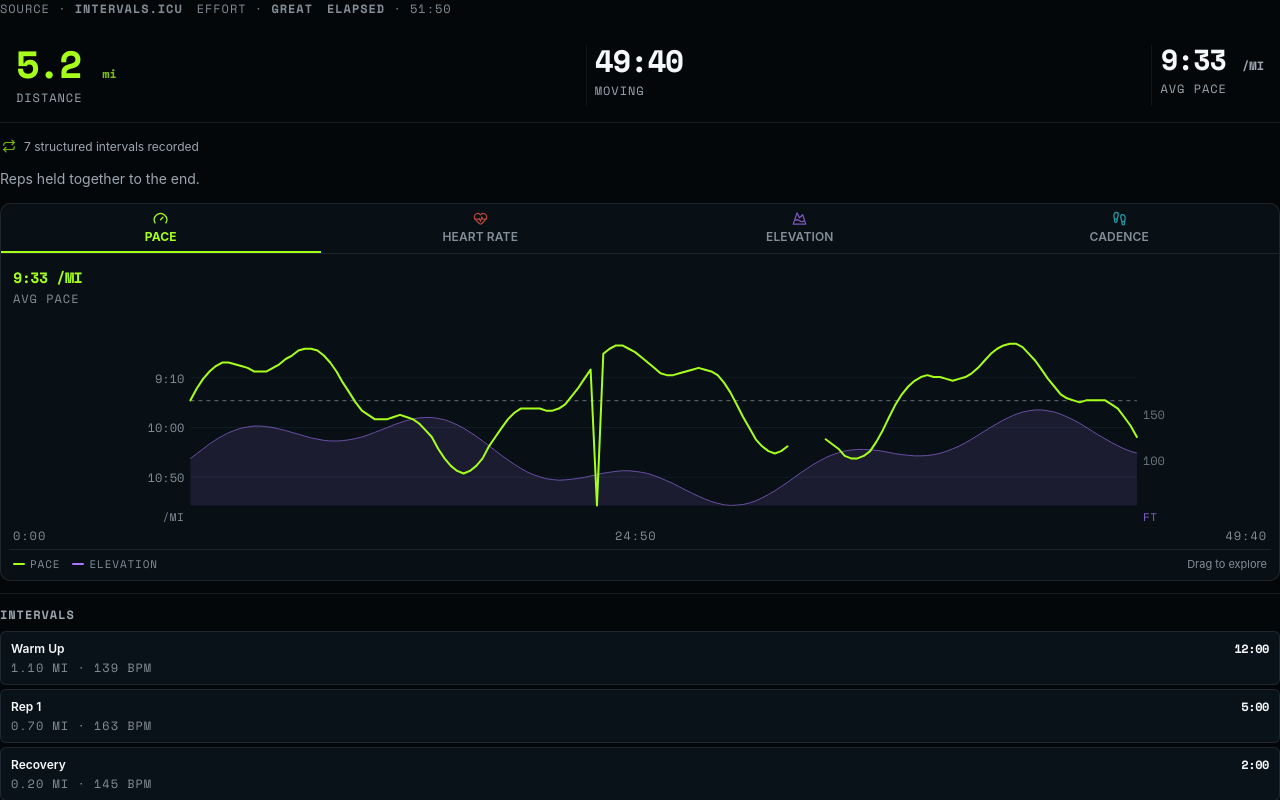
QA rich-profile run › keeps the result dominant and the source's own aggregates stated
This screenshot has width=1280, height=800.
Expected: the element named "Primary activity results" shows "5.2 mi", [0,29,1279,123]
Expected: the text "49:40" is shown 2 times, [595,45,683,77]; [1226,529,1267,543]
Click the button "Elevation": (800, 228) [640,204,960,253]
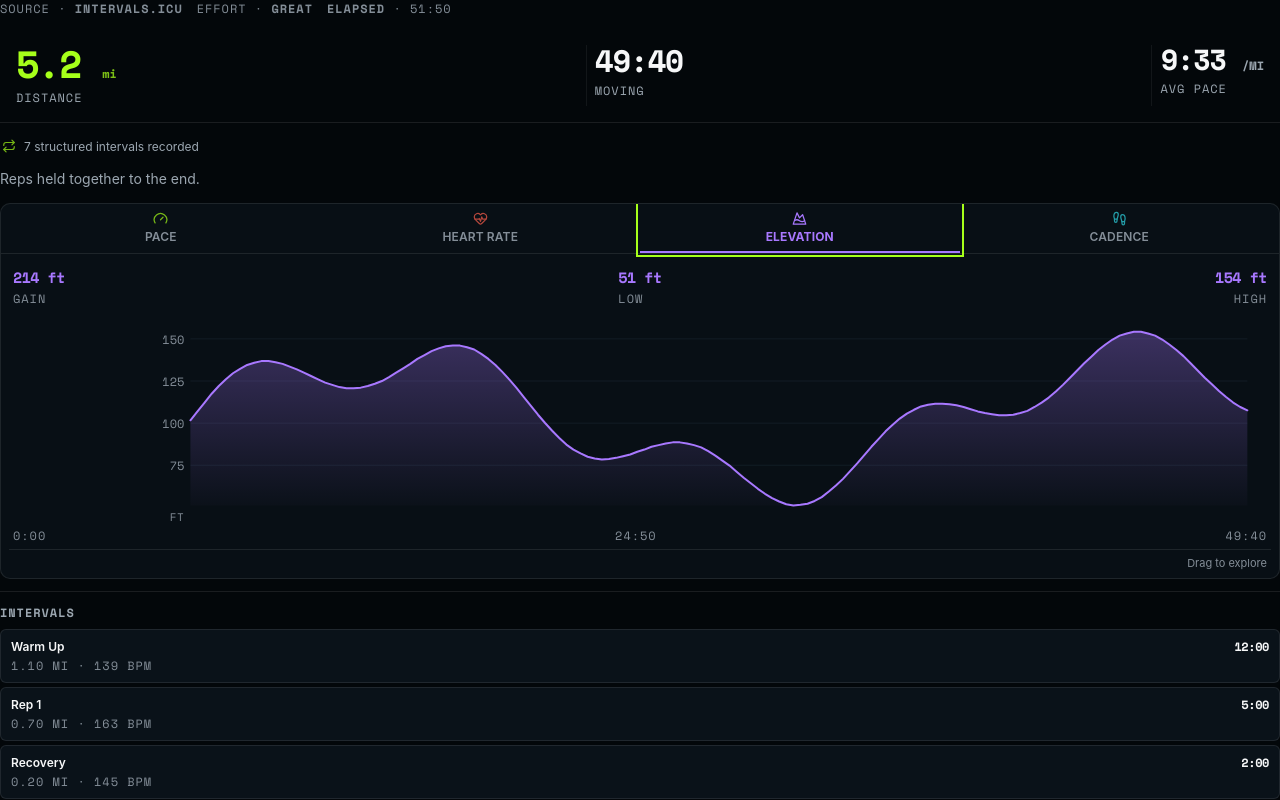
Result: the element with class "run-analysis__facts" shows "214 ft" at [13,266,65,288]
